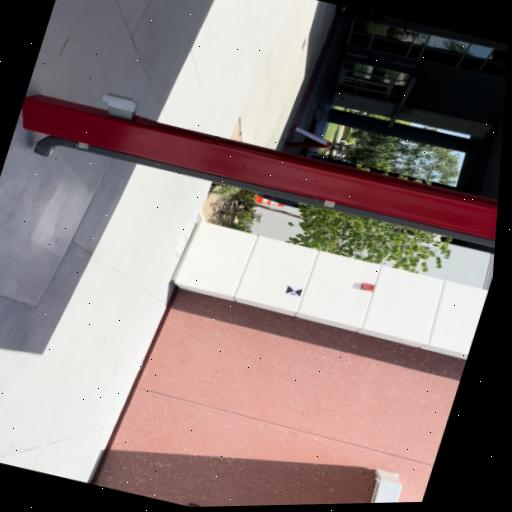target6: (285, 286, 302, 298)
